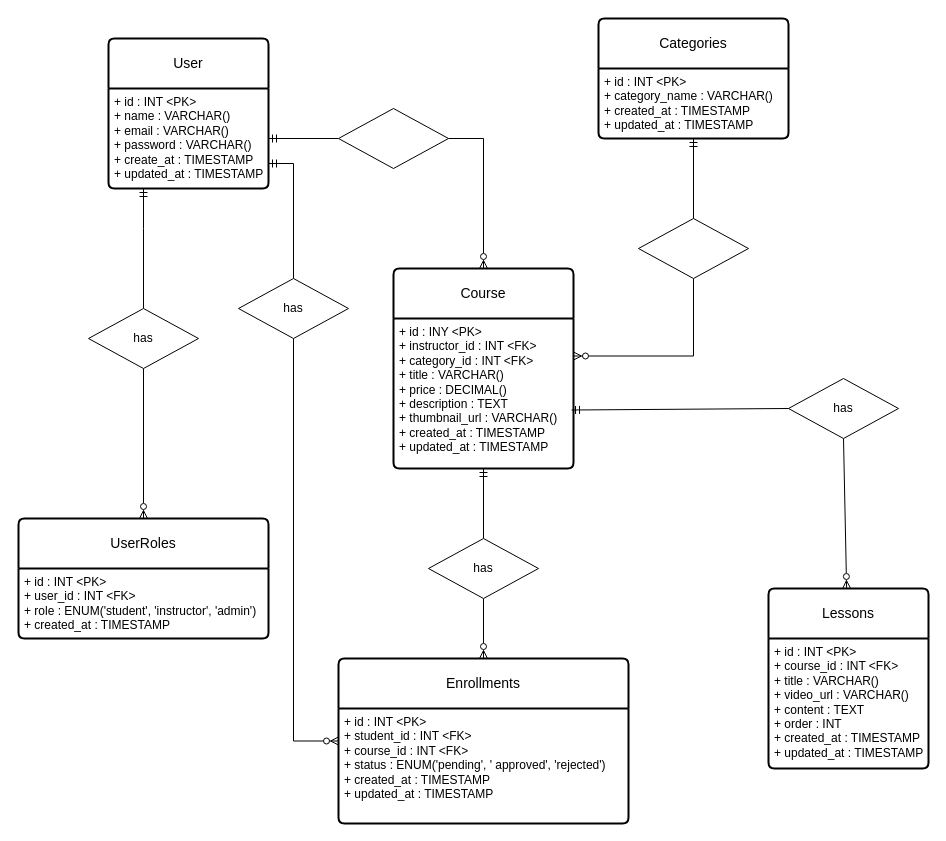
The diagram is 946 pixels wide and 841 high, and some of its shapes have lost their labels. Each missing label, with the centre of its shape:
"contain" goes at (693,248).
"create && enroll" goes at (393,138).
